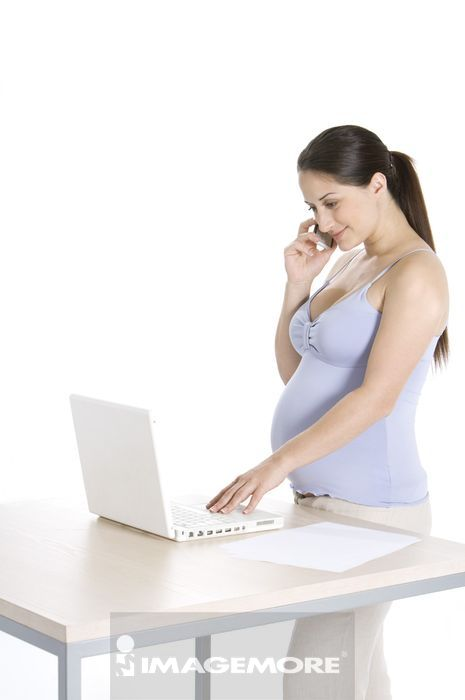talk: (285, 188, 365, 291)
